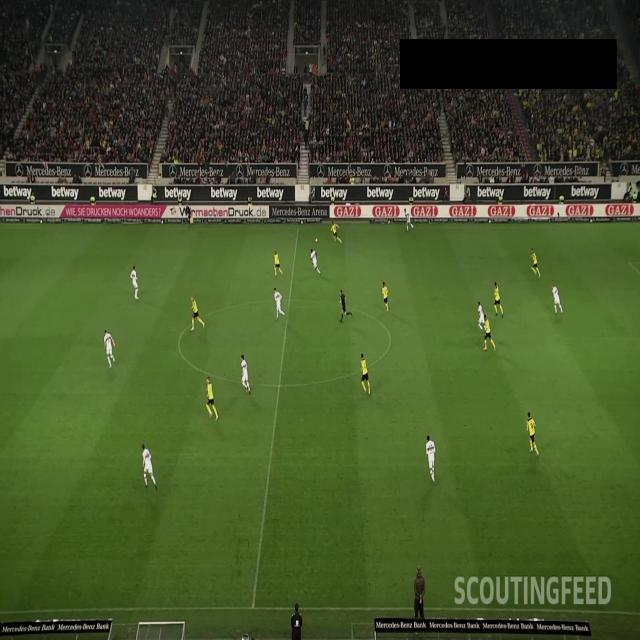player: (141, 443, 158, 491), (526, 411, 540, 457), (205, 376, 219, 421), (482, 314, 496, 352), (426, 434, 436, 484), (190, 296, 204, 331), (104, 329, 116, 369), (240, 354, 251, 394), (360, 352, 370, 396), (273, 287, 285, 319), (494, 281, 504, 318), (551, 284, 563, 314), (310, 249, 322, 275), (531, 247, 541, 278), (130, 265, 139, 299), (274, 248, 284, 277), (330, 221, 342, 243), (404, 208, 414, 232), (382, 281, 389, 312), (478, 300, 484, 331)
referee: (339, 289, 353, 323), (186, 203, 194, 228)
